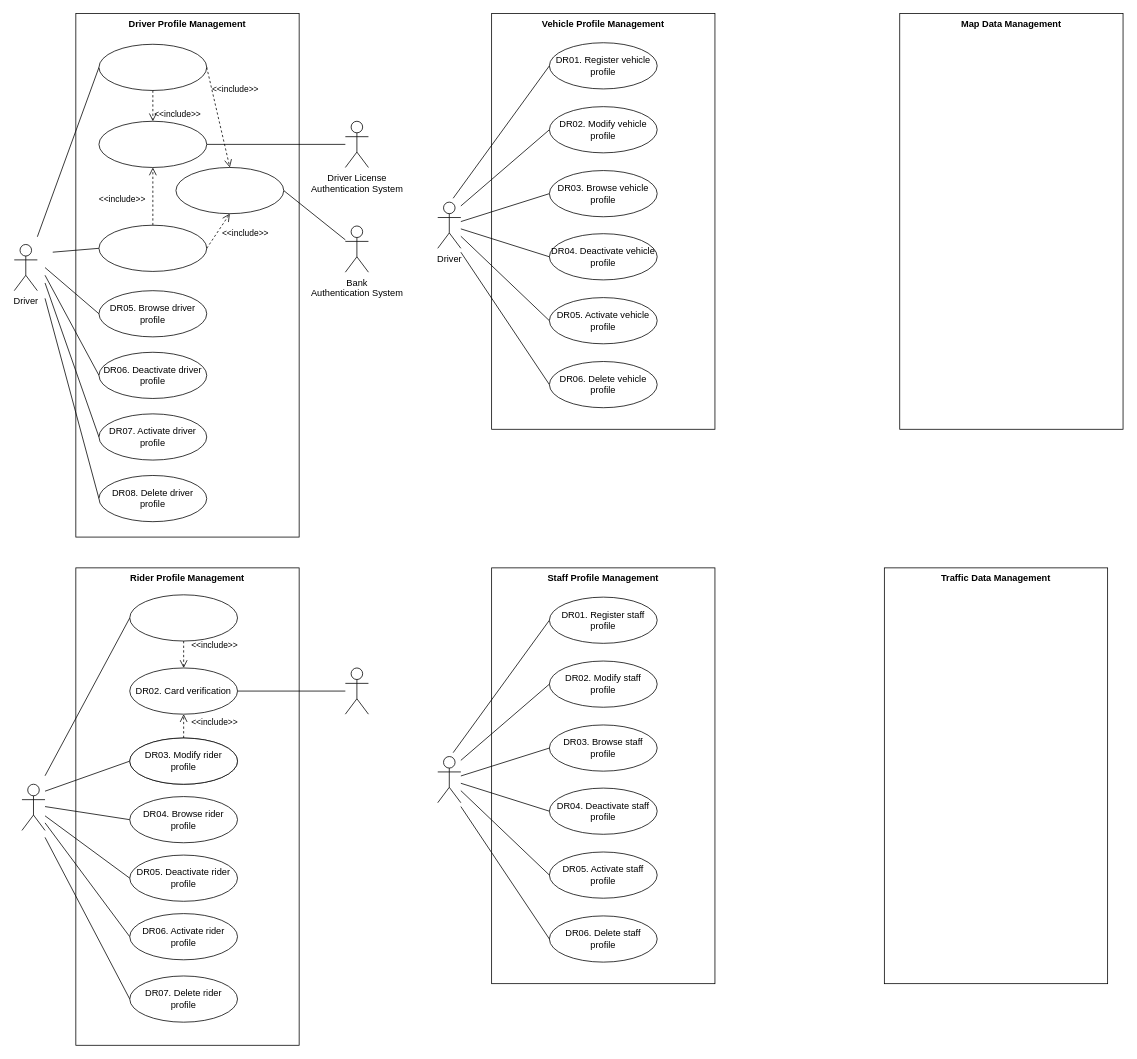
Some shapes in this 1137 by 1059 pixel diagram are drawn without their labels. The shapes that lost their labels are listed below. From the top down, each one's centre as x and y in pixels, then its label:
pixel 152 67: DR01. Register driver profile
pixel 152 144: DR02. Driver license verification
pixel 229 190: DR03. Bank account verification
pixel 152 247: DR04. Modify driver profile
pixel 183 617: DR01. Register rider profile
pixel 356 690: Card Authentication System
pixel 449 779: Staff
pixel 33 806: Rider
